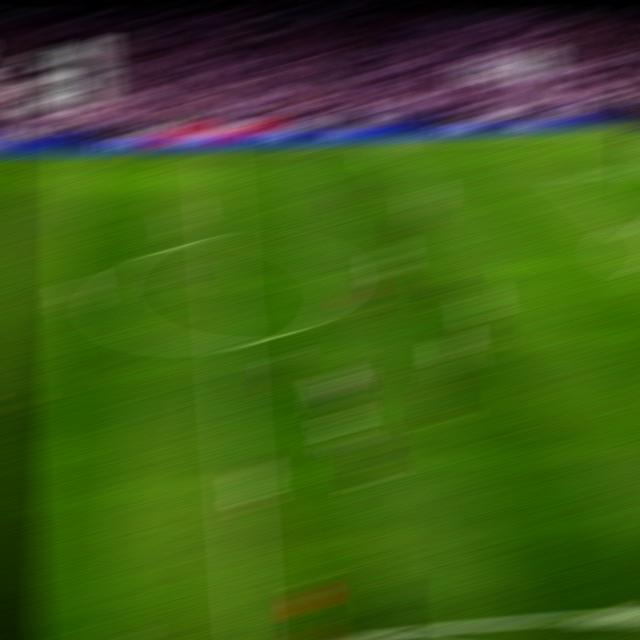bigarea_top_inner: (553, 168, 580, 180)
halfcircle_bottom: (212, 331, 245, 357)
halfcircle_top: (204, 226, 238, 250)
midline_bottom_intersection: (230, 626, 268, 638)
midline_top_intersection: (201, 147, 229, 160)
top_arc_area_intersection: (611, 215, 639, 225)
